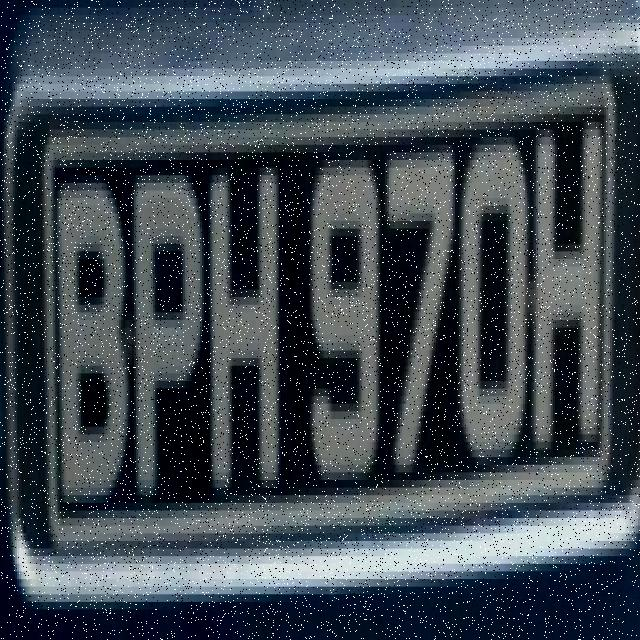licenseplate: (0, 50, 640, 625)
